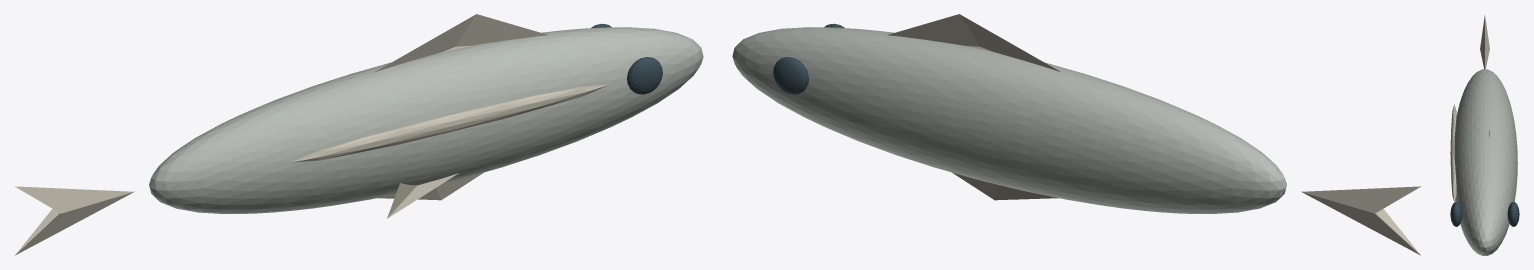
The model's file is Ikan_Belanak.glb.
3 renders of one model, left to right at view 1: azimuth 30°, elevation 25°; view 2: azimuth 150°, elevation 25°; view 3: azimuth 270°, elevation 25°, orthographic. The views are drawn at different scales.
Parts seen in each view (by area): view 1: Part_00, Part_07, Part_01, Part_02, Part_05, Part_04, Part_03; view 2: Part_00, Part_01, Part_02, Part_06, Part_03; view 3: Part_00, Part_07, Part_01, Part_05, Part_06.
Boxes of the visible parts, <box> form: Part_00: <box>149,27,703,213</box>; Part_07: <box>290,84,610,162</box>; Part_01: <box>15,186,134,255</box>; Part_02: <box>374,14,548,72</box>; Part_05: <box>627,57,662,94</box>; Part_04: <box>387,173,458,218</box>; Part_03: <box>377,172,483,200</box>; Part_00: <box>732,27,1286,213</box>; Part_01: <box>1301,186,1420,255</box>; Part_02: <box>887,14,1061,72</box>; Part_06: <box>773,57,808,94</box>; Part_03: <box>952,172,1058,200</box>; Part_00: <box>1454,69,1517,255</box>; Part_07: <box>1450,104,1456,202</box>; Part_01: <box>1480,15,1489,69</box>; Part_05: <box>1450,202,1462,226</box>; Part_06: <box>1507,202,1519,226</box>.
Bounding box in the file's own units: 1.51 × 0.3718 × 0.2079.
